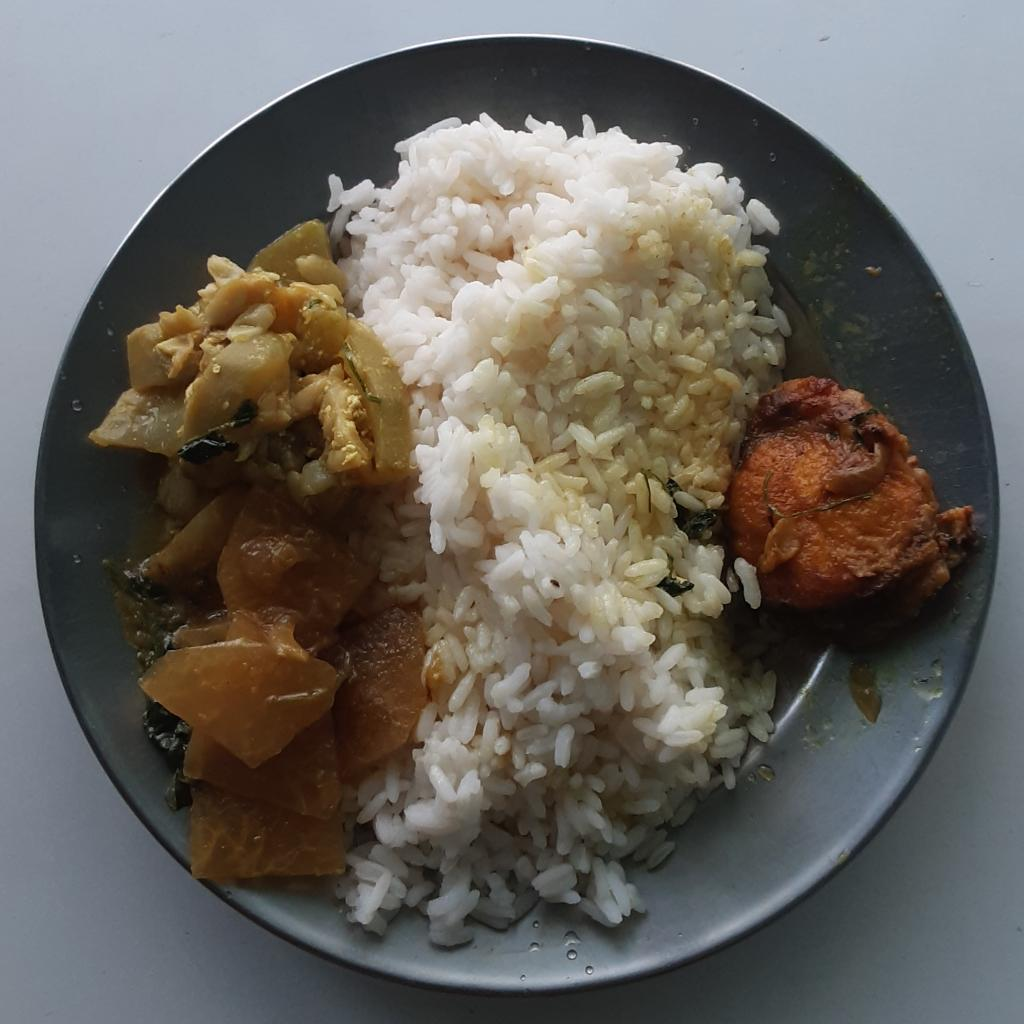dundol: (100, 465, 426, 893)
fish: (733, 374, 976, 647)
lau: (94, 216, 411, 495)
rice: (327, 104, 791, 950)
